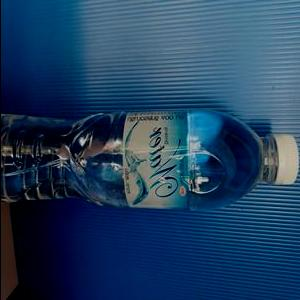bottle: (0, 102, 300, 216)
